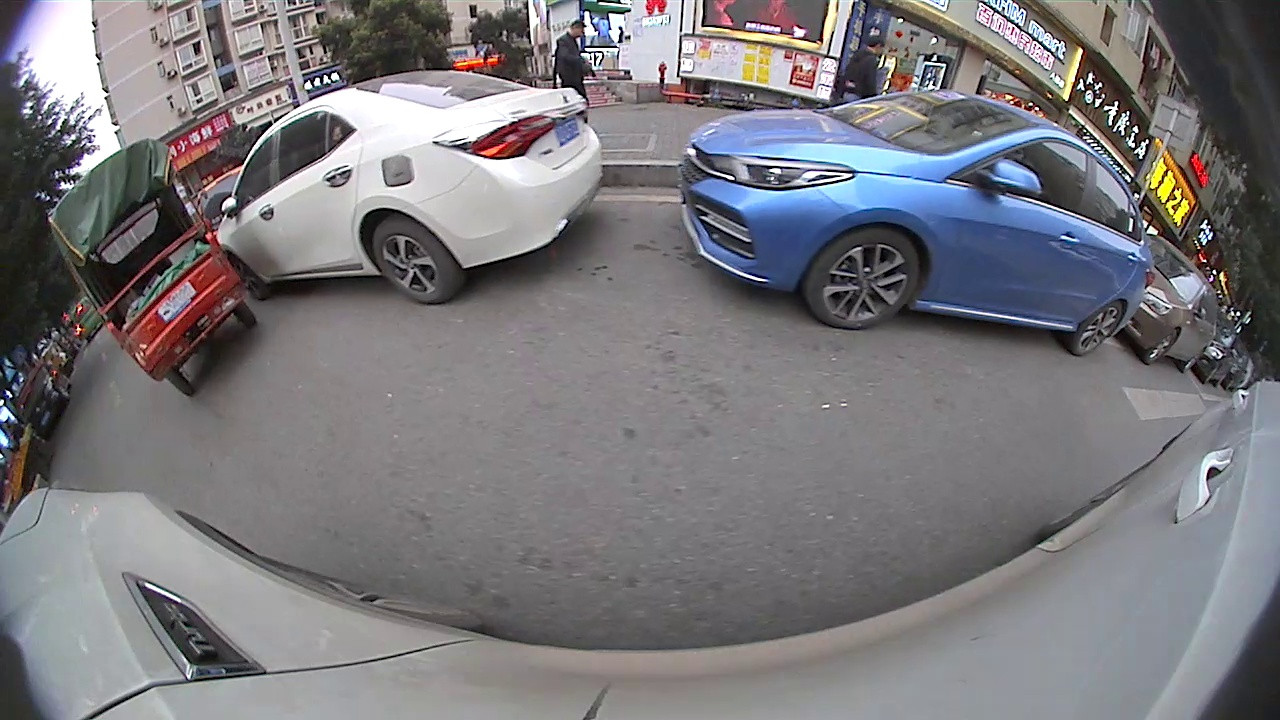car: (673, 84, 1157, 362), (217, 68, 607, 310), (1125, 231, 1225, 378)
front: (814, 229, 917, 331), (1144, 325, 1182, 362)
person: (555, 18, 587, 97), (854, 30, 883, 102)
rear: (366, 219, 459, 305), (1070, 294, 1130, 357)
rider: (45, 133, 263, 401)
